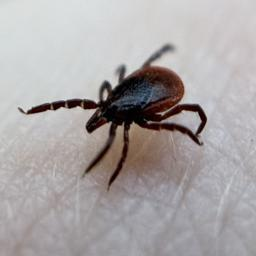Ixodes scapularis: (16, 41, 207, 190)
